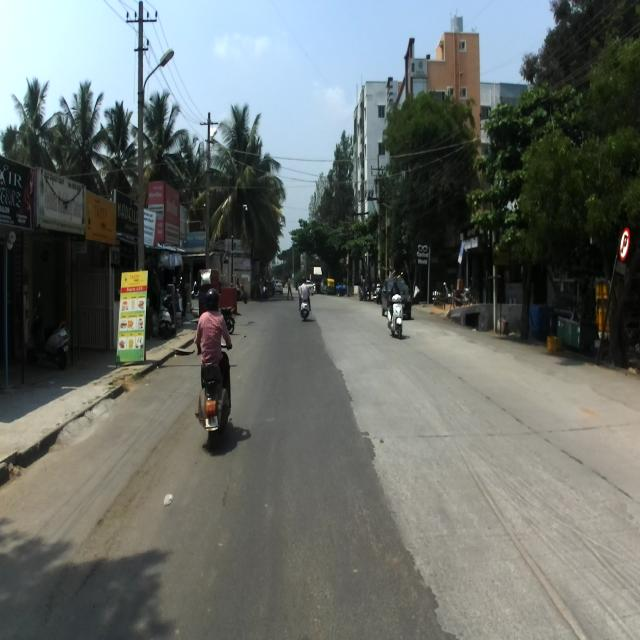electric pole ahead at: (125, 0, 176, 265)
motorcycle ahead at: (191, 348, 236, 448)
